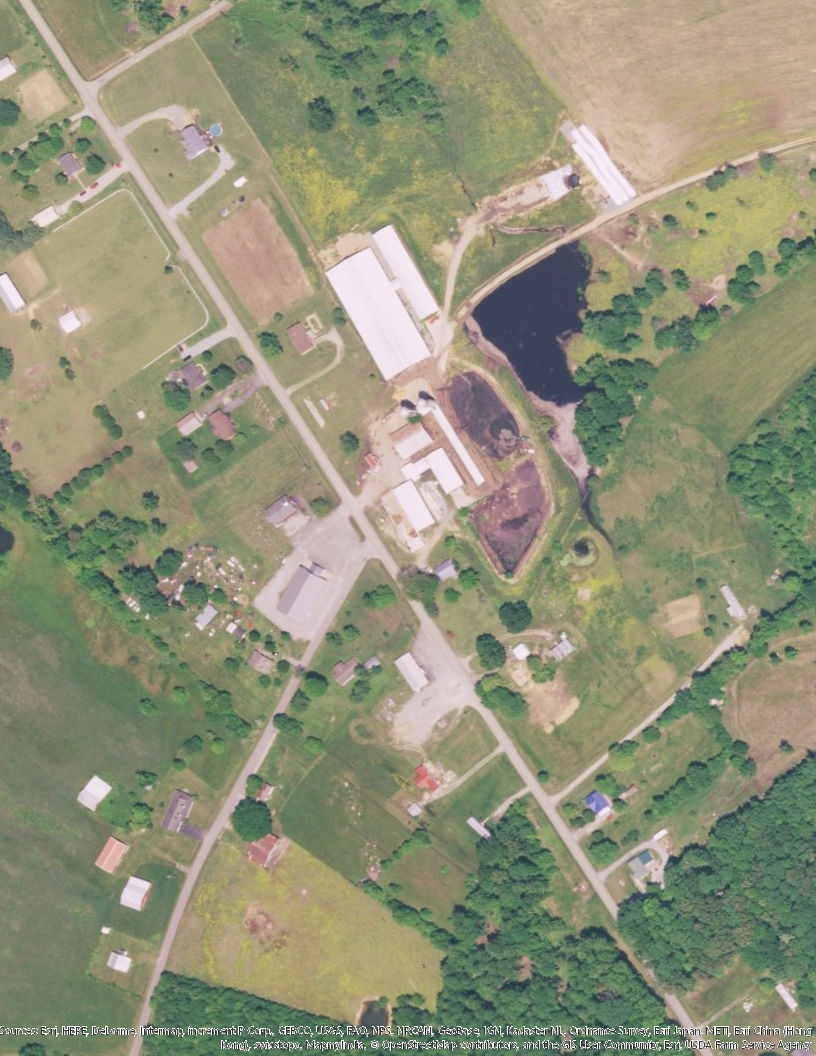cafo: (319, 220, 454, 386), (390, 399, 493, 509), (390, 480, 430, 533)
